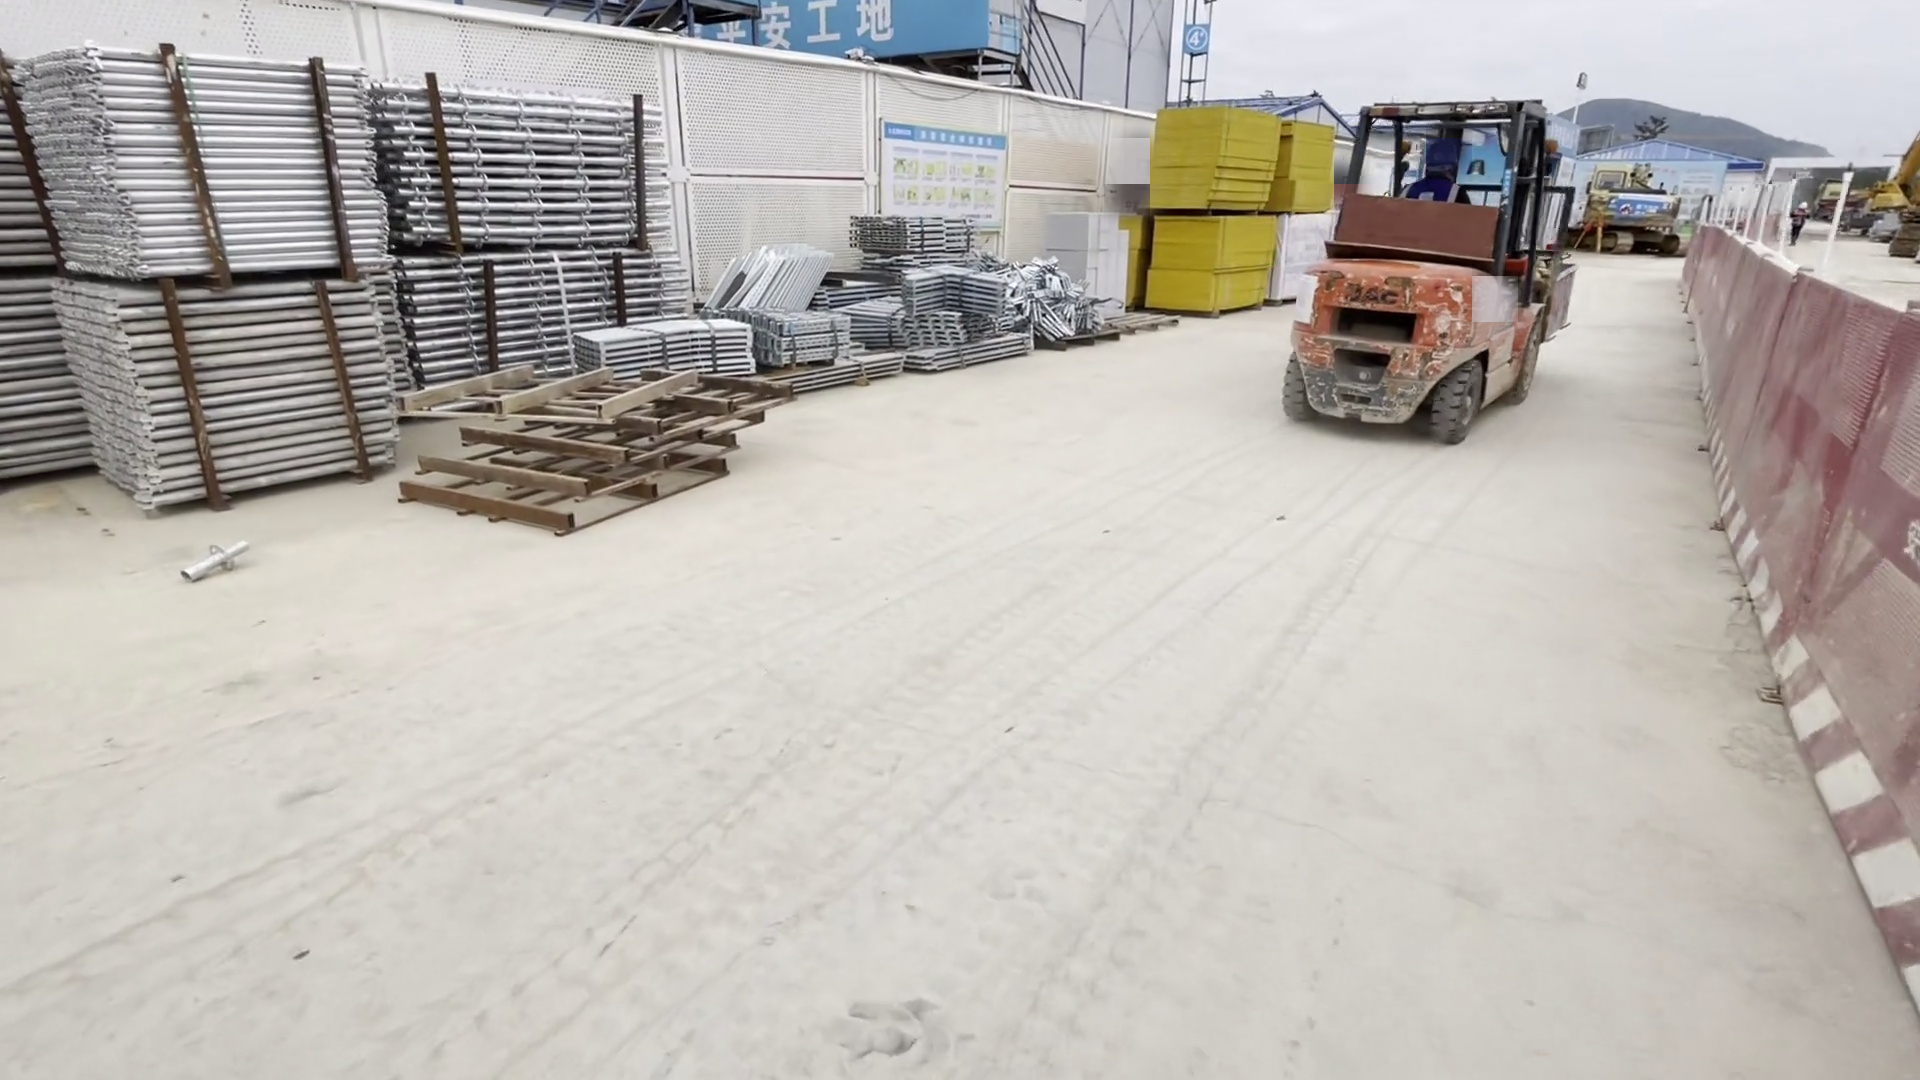brick: (1043, 200, 1134, 309)
scaffold: (7, 42, 738, 501), (709, 216, 1129, 378)
